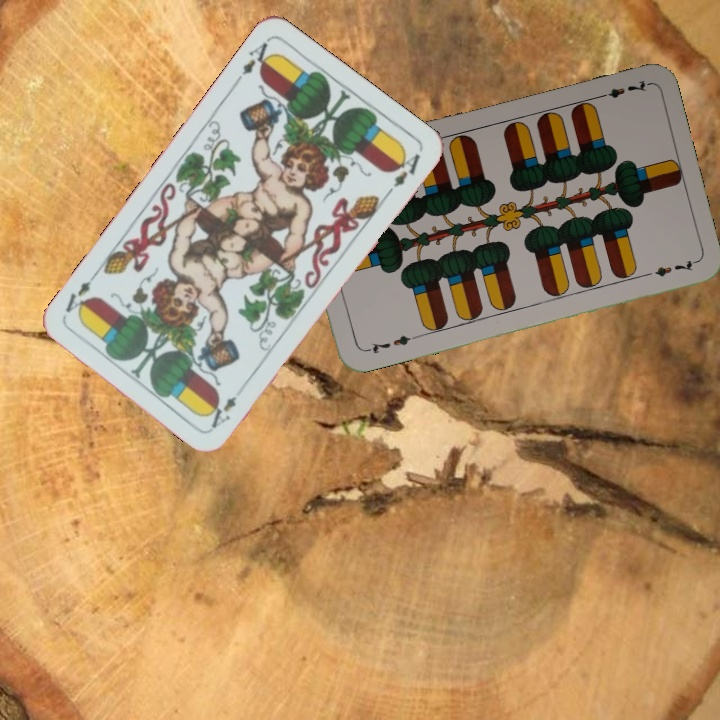E7: (359, 331, 417, 357), (593, 76, 651, 102)
EA: (230, 38, 278, 88), (207, 392, 240, 431)
